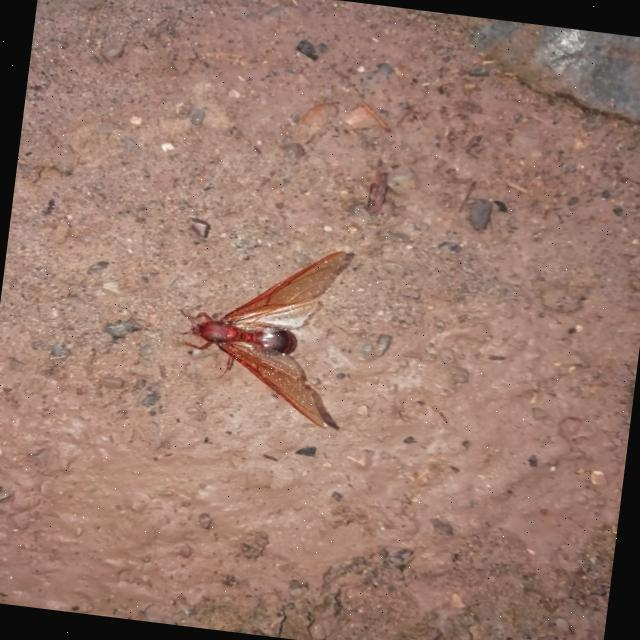Alive-Male-Alate: (167, 232, 348, 430)
